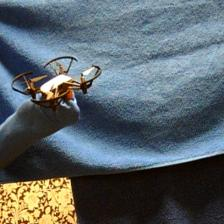drone: (10, 55, 102, 112)
